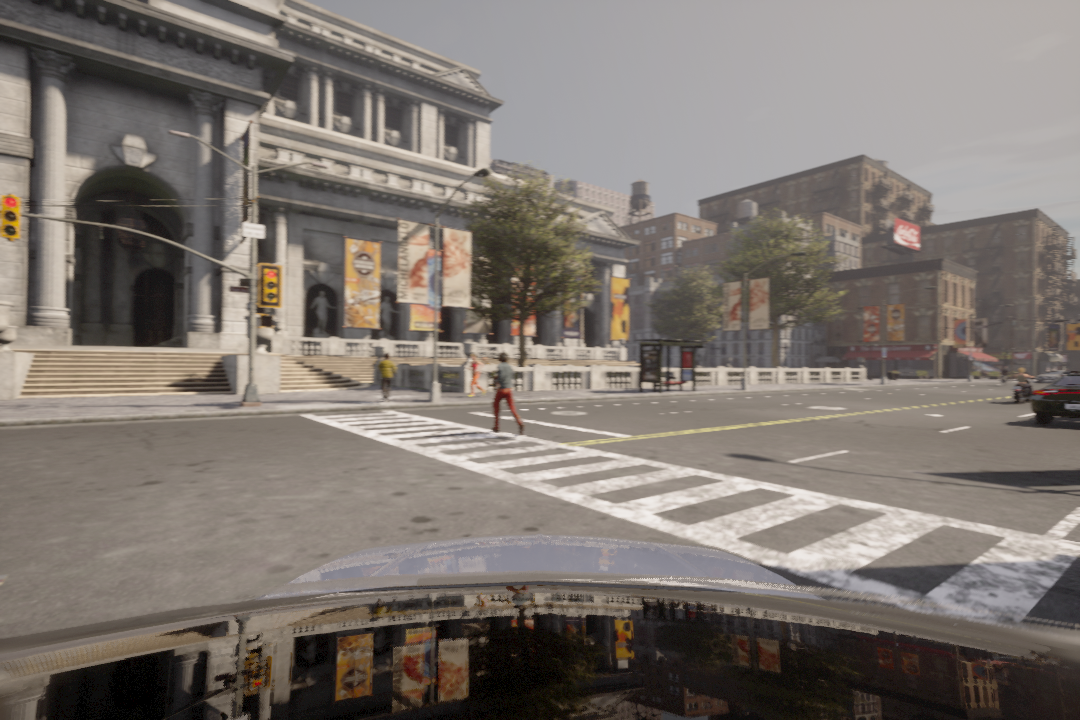TrafficLight: (255, 258, 282, 309), (1, 194, 18, 242)
walkside: (301, 414, 1080, 656)
